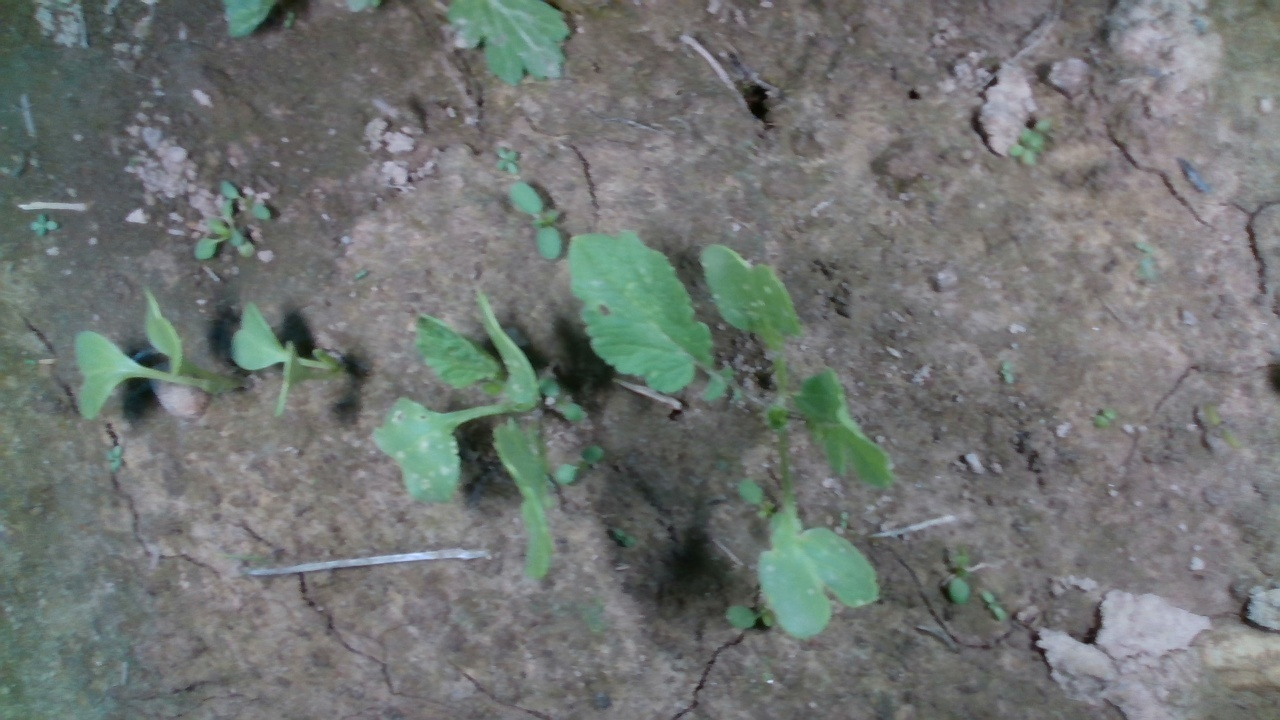weed: (504, 180, 563, 260), (980, 586, 1008, 622), (493, 145, 520, 176), (29, 211, 60, 238), (1092, 406, 1117, 429)
